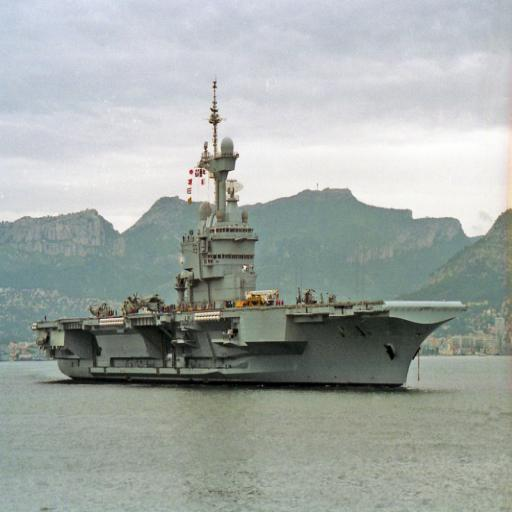Portanaves: (27, 73, 471, 399)
